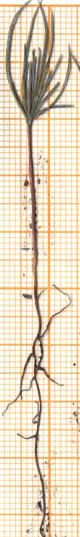flower: (1, 0, 78, 120)
root: (0, 282, 77, 537)
stem: (24, 118, 46, 299)
